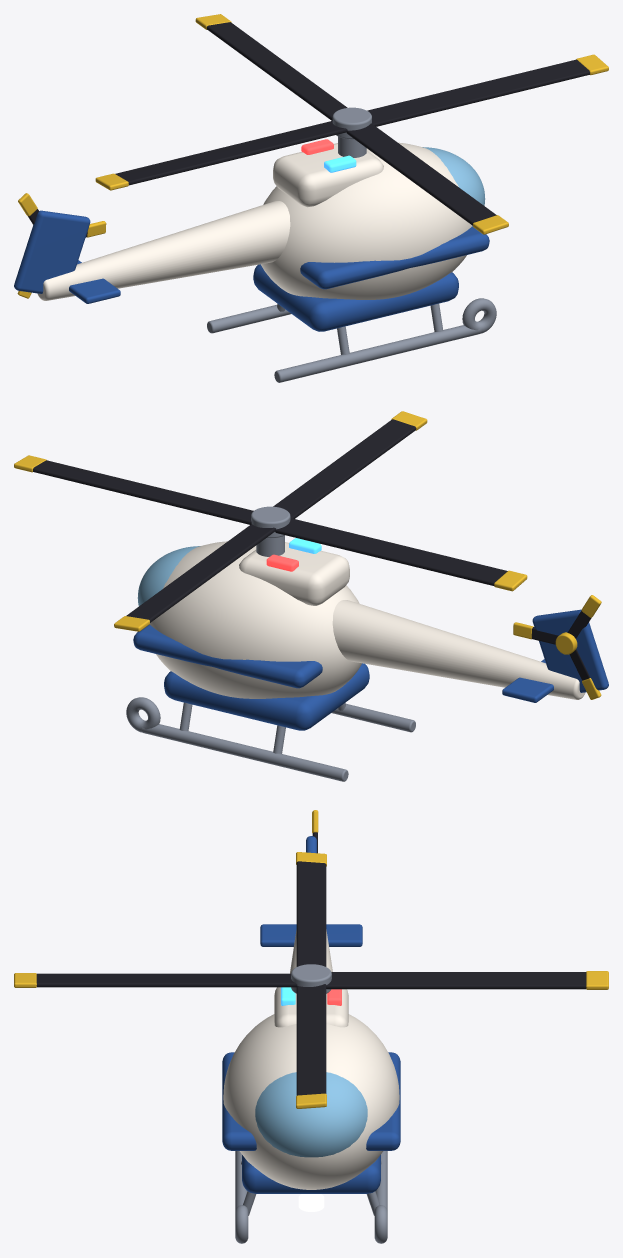
Rendered from heli.glb.
3 renders of one model, top to bottom at view 1: azimuth 30°, elevation 25°; view 2: azimuth 150°, elevation 25°; view 3: azimuth 270°, elevation 25°, orthographic. The views are drawn at different scales.
Parts seen in each view (by area): view 1: heli, rotor, tail_rotor; view 2: heli, rotor, tail_rotor; view 3: heli, rotor.
Boxes of the visible parts, x1,y1,x2,y2 form: heli: (14,136,496,382); rotor: (95,14,608,234); tail_rotor: (17,193,106,298); heli: (126,535,608,781); rotor: (14,411,527,631); tail_rotor: (513,595,601,699); heli: (222,836,400,1243); rotor: (14,852,608,1108).
Bounding box in the file's own units: 7.53 × 2.65 × 6.41.
1 material, 1 textured.
